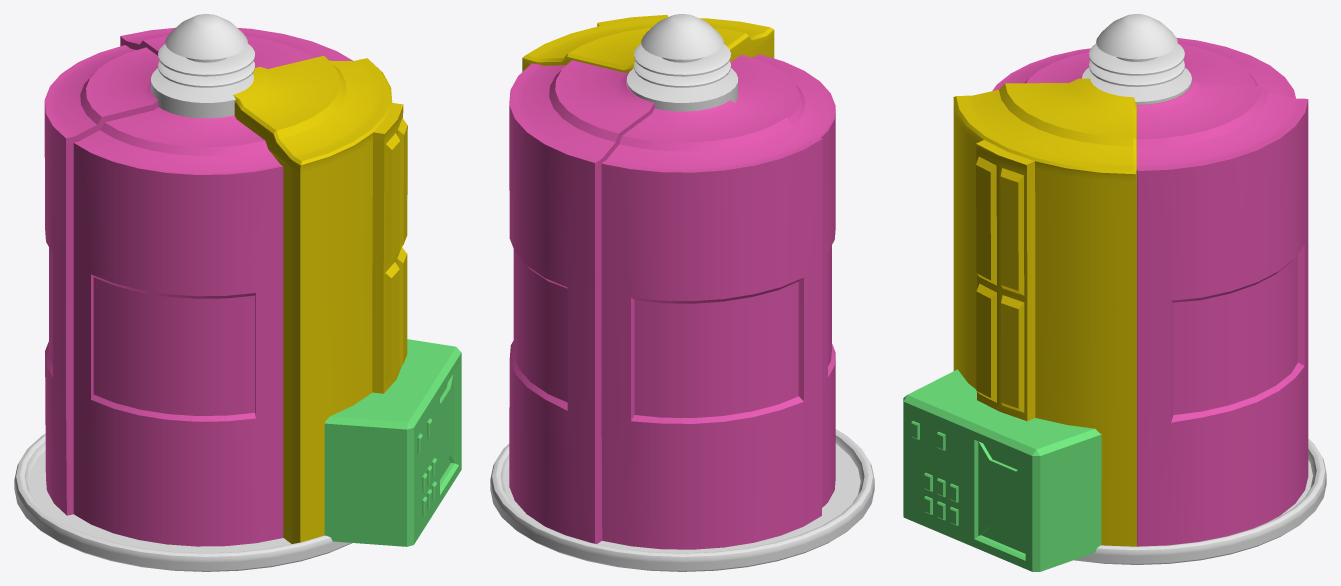
The model's file is RepairStation.fbx.
The picture shows the model from 3 angles, left to right: view 1: azimuth 30°, elevation 25°; view 2: azimuth 150°, elevation 25°; view 3: azimuth 270°, elevation 25°; orthographic projection.
Parts seen in each view (by area): view 1: slide3, MainPart, Cube, slide2, base, light, slide1; view 2: slide2, slide1, base, slide3, light, MainPart; view 3: slide1, MainPart, Cube, light, base, slide2, slide3.
Part boxes in pixels (x1,y1,x2,y2): slide3: (73,107,283,546); MainPart: (233,55,407,543); Cube: (324,339,461,546); slide2: (44,45,159,515); base: (14,434,351,571); light: (151,14,254,118); slide1: (120,27,352,68); slide2: (601,100,822,549); slide1: (509,60,654,543); base: (490,429,874,571); slide3: (730,54,835,507); light: (626,14,738,111); MainPart: (522,15,774,72); slide1: (1137,81,1308,546); MainPart: (953,78,1136,546); Cube: (903,369,1101,571); light: (1082,14,1191,104); base: (1074,439,1326,564); slide2: (1176,37,1295,98); slide3: (992,48,1090,90).
Size of the model in its own units: 262 by 323 by 264.
